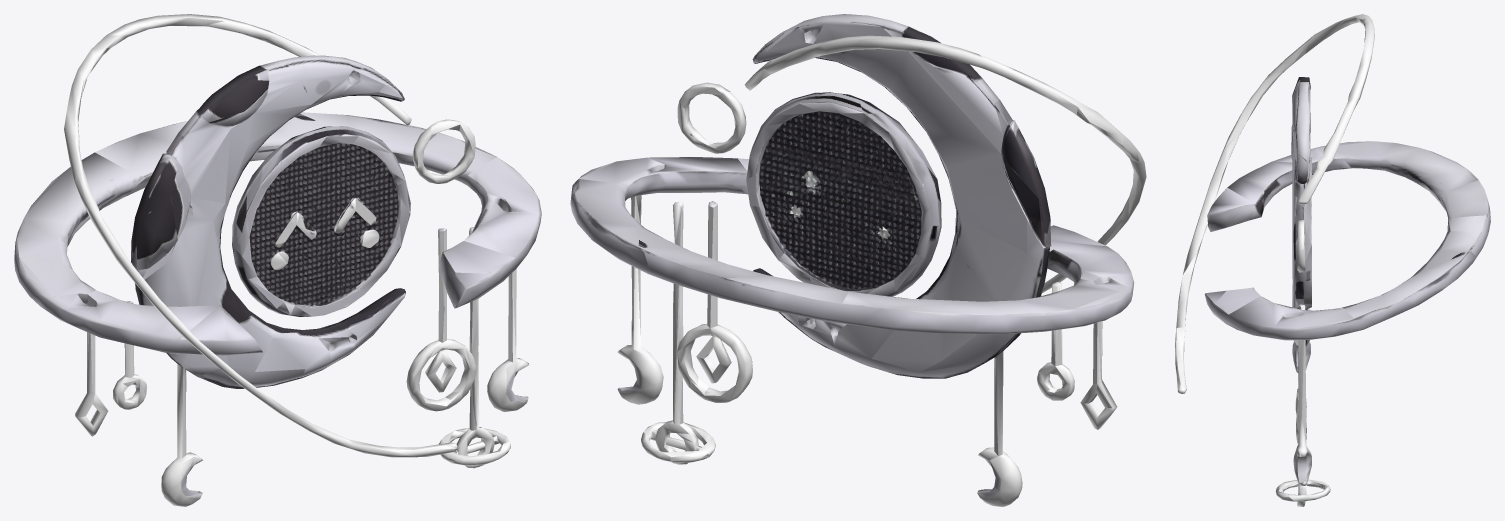
Rendered from id-robot.fbx.
3 views of the same model, side by side, from view 1: azimuth 30°, elevation 25°; view 2: azimuth 150°, elevation 25°; view 3: azimuth 270°, elevation 25° (orthographic). The views are drawn at different scales.
Parts seen in each view (by area): view 1: id_robot; view 2: id_robot; view 3: id_robot.
Boxes of the visible parts, x1,y1,x2,y2 form: id_robot: (14, 14, 541, 506); id_robot: (570, 14, 1146, 506); id_robot: (1175, 14, 1490, 506).
Size of the model in its own units: 52 by 49.62 by 38.25.
Materials: 1 (1 with a texture image).
